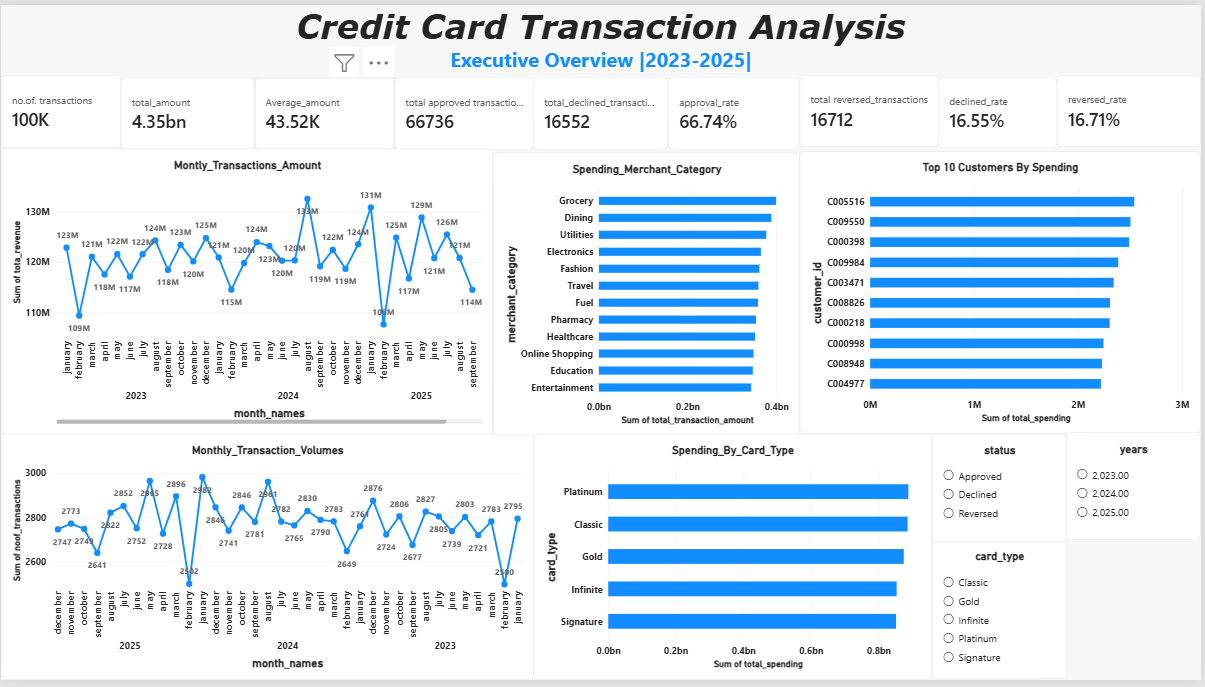

The page's visual inventory and layout, read from the dashboard file:
{"tool":"powerbi","page":{"name":"project 2...excutive overview","canvas":[1920,1080],"ordinal":0},"visuals":[{"type":"cardVisual","fields":{"Data":["Sum(public transactions.amount)"]},"box":[192.5,115,212.5,115],"z":0},{"type":"cardVisual","fields":{"Data":["Count(public transactions.transaction_id)"]},"box":[0,112.5,192.5,117.5],"z":1000},{"type":"cardVisual","fields":{"Data":["Avg(public transactions.amount)"]},"box":[405,115,225,115],"z":2000},{"type":"cardVisual","fields":{"Data":["Sum(public category_approved_rate.approved_transactions)"]},"box":[630,115,222.5,115],"z":3000},{"type":"cardVisual","fields":{"Data":["Sum(public category_declined_rate.declined_transactions)"]},"box":[852.5,115,215,115],"z":4000},{"type":"cardVisual","fields":{"Data":["Sum(public category_reversed_rate.reversed_transactions)"]},"box":[1277.5,112.5,222.5,115],"z":5000},{"type":"cardVisual","fields":{"Data":["public branches.RRRR"]},"box":[1067.5,115,210,115],"z":6000},{"type":"cardVisual","fields":{"Data":["public branches.declined_rate"]},"box":[1500,115,190,112.5],"z":7000},{"type":"cardVisual","fields":{"Data":["public branches.reversed_rate"]},"box":[1690,112.5,230,115],"z":8000},{"type":"lineChart","title":"Montly_Transactions_Amount","fields":{"Category":["public monthly_transaction_amountssssss.years","public monthly_transaction_amountssssss.month_names"],"Y":["Sum(public monthly_transaction_amountssssss.tota_revenue)"]},"box":[0,230,787.5,457.5],"z":9000},{"type":"lineChart","title":"Monthly_Transaction_Volumes","fields":{"Category":["public monthly_transaction_amountssssss.years","public monthly_transaction_amountssssss.month_names"],"Y":["Sum(public monthly_transaction_amountssssss.noof_transactions)"]},"box":[0,687,852.2,393.5],"z":10000},{"type":"barChart","title":"Spending_Merchant_Category","fields":{"Category":["public category_spending.merchant_category"],"Y":["Sum(public category_spending.total_transaction_amount)"]},"box":[787.5,235,490,452.5],"z":11000},{"type":"barChart","title":"Spending_By_Card_Type","fields":{"Category":["public spending_by_card_type.card_type"],"Y":["Sum(public spending_by_card_type.total_spending)"]},"box":[852.2,687,637,393.5],"z":12000},{"type":"barChart","title":"Top 10 Customers By Spending","fields":{"Category":["public top_10_customers.customer_id"],"Y":["Sum(public top_10_customers.total_spending)"]},"box":[1278.3,234.8,641.3,452.2],"z":13000},{"type":"listSlicer","fields":{"Values":["public monthly_transaction_amountssssss.years"]},"box":[1704.3,684.8,215.2,171.7],"z":14000},{"type":"listSlicer","fields":{"Values":["public spending_by_card_type.card_type"]},"box":[1489.1,856.5,215,222.5],"z":15000},{"type":"listSlicer","fields":{"Values":["public transactions.status"]},"box":[1489.1,687,215,172.5],"z":16000},{"type":"textbox","box":[0,0,1920,112.5],"z":17000}]}

Visuals, with their boxes in screenshot pixels (x1, y1, x2, y2), scaled from the page's 1920x1080 canvas onto the 1205x687 screenshot:
cardVisual - Sum(public transactions.amount): 121,73,254,146
cardVisual - Count(public transactions.transaction_id): 0,72,121,146
cardVisual - Avg(public transactions.amount): 254,73,395,146
cardVisual - Sum(public category_approved_rate.approved_transactions): 395,73,535,146
cardVisual - Sum(public category_declined_rate.declined_transactions): 535,73,670,146
cardVisual - Sum(public category_reversed_rate.reversed_transactions): 802,72,941,145
cardVisual - public branches.RRRR: 670,73,802,146
cardVisual - public branches.declined_rate: 941,73,1061,145
cardVisual - public branches.reversed_rate: 1061,72,1204,145
"Montly_Transactions_Amount" lineChart: 0,146,494,437
"Monthly_Transaction_Volumes" lineChart: 0,437,535,686
"Spending_Merchant_Category" barChart: 494,149,802,437
"Spending_By_Card_Type" barChart: 535,437,935,686
"Top 10 Customers By Spending" barChart: 802,149,1204,437
listSlicer - public monthly_transaction_amountssssss.years: 1070,436,1204,545
listSlicer - public spending_by_card_type.card_type: 935,545,1070,686
listSlicer - public transactions.status: 935,437,1070,547
textbox: 0,0,1204,72
